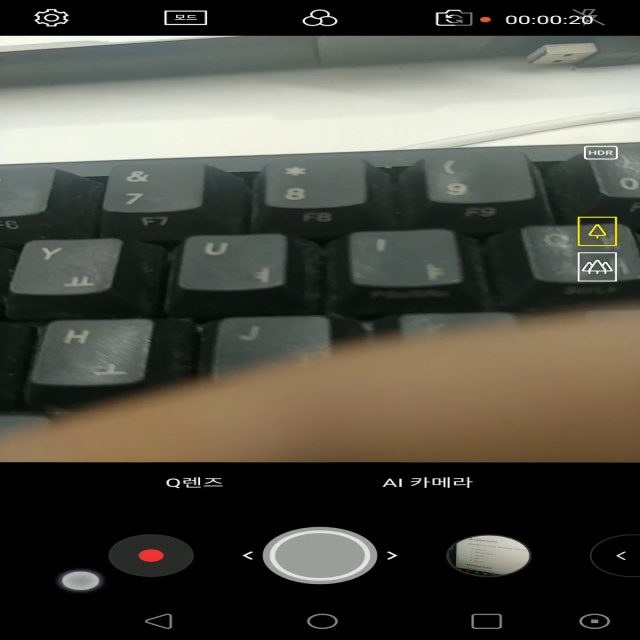Cursor: (59, 571, 104, 593)
